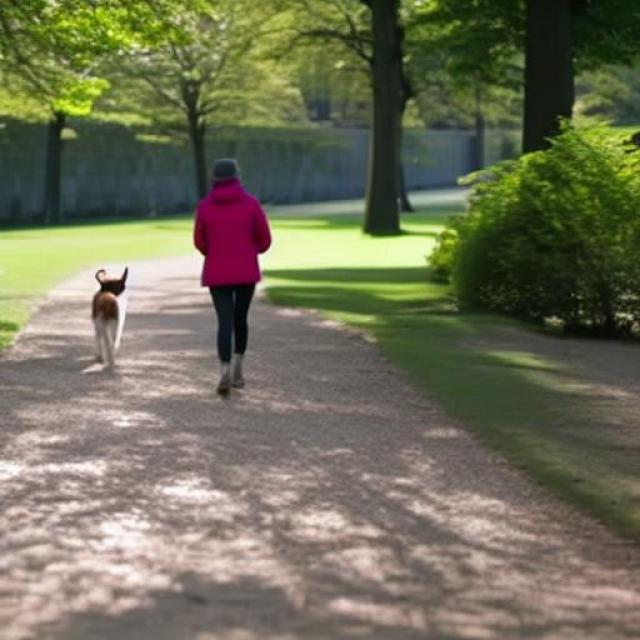Unleashed_Dog: (88, 267, 255, 369)
